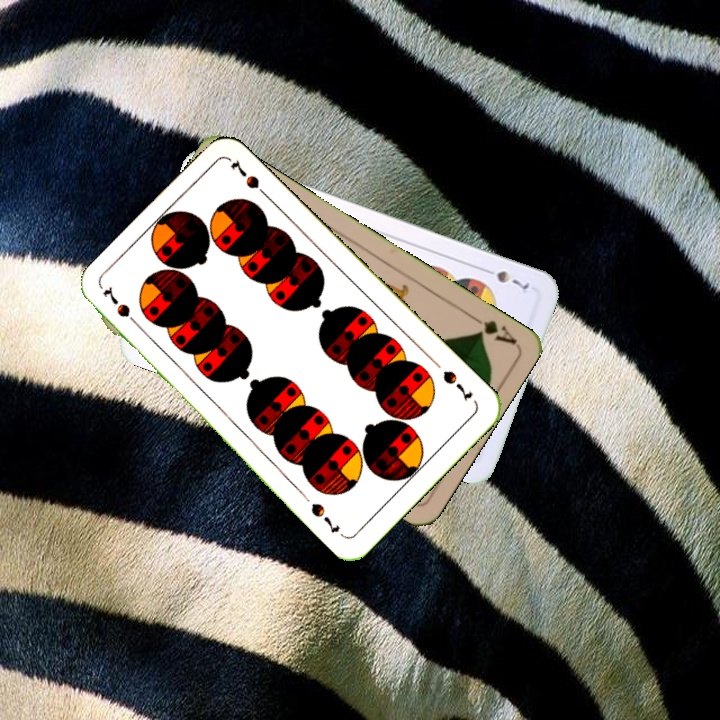GA: (464, 310, 519, 347)
S7: (98, 284, 145, 333), (478, 263, 535, 297), (438, 366, 476, 403)
